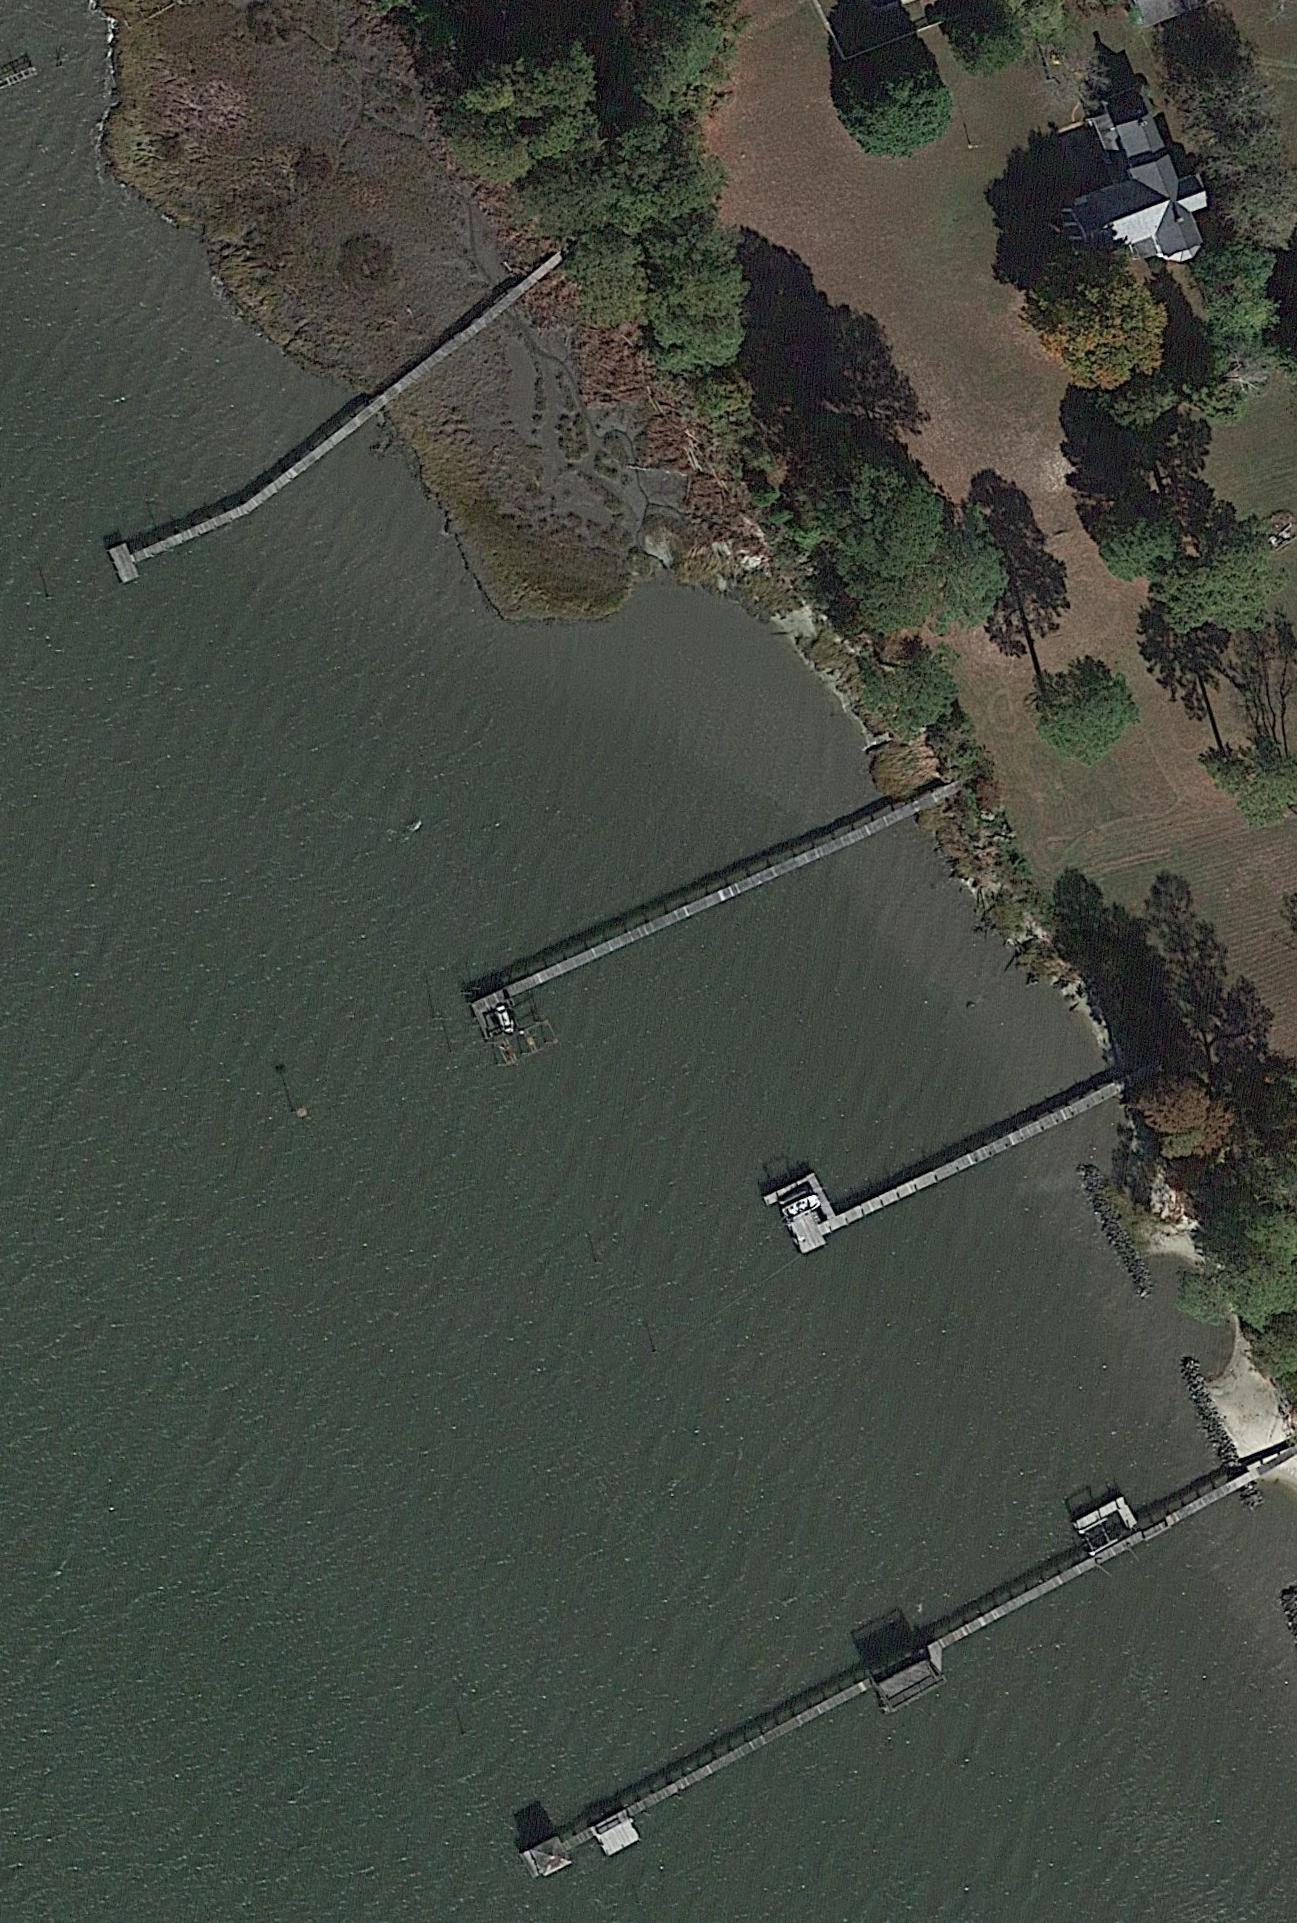harbor: (496, 1444, 1255, 1907), (76, 288, 562, 587), (470, 805, 923, 1044), (762, 1056, 1083, 1260)
ship: (780, 1192, 821, 1221), (493, 1003, 515, 1035)
